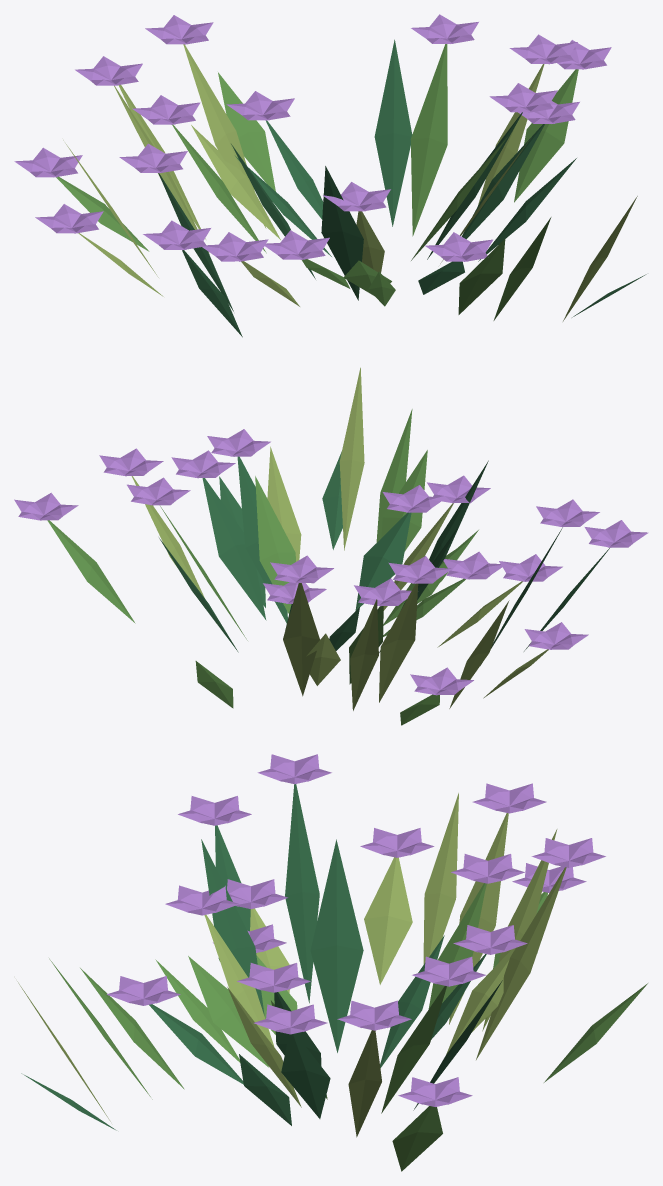
The model's file is wildflowers_lavender.glb.
3 renders of one model, top to bottom at view 1: azimuth 30°, elevation 25°; view 2: azimuth 150°, elevation 25°; view 3: azimuth 270°, elevation 25°, orthographic. The views are drawn at different scales.
Visible parts, largest first — view 1: wildflowers_lavender; view 2: wildflowers_lavender; view 3: wildflowers_lavender.
Boxes of the visible parts, box(x1,y1,x2,y2) form: wildflowers_lavender: box(14, 14, 646, 337); wildflowers_lavender: box(14, 367, 648, 725); wildflowers_lavender: box(17, 754, 647, 1171).
Size of the model in its own units: 2.37 by 0.6988 by 2.09.
